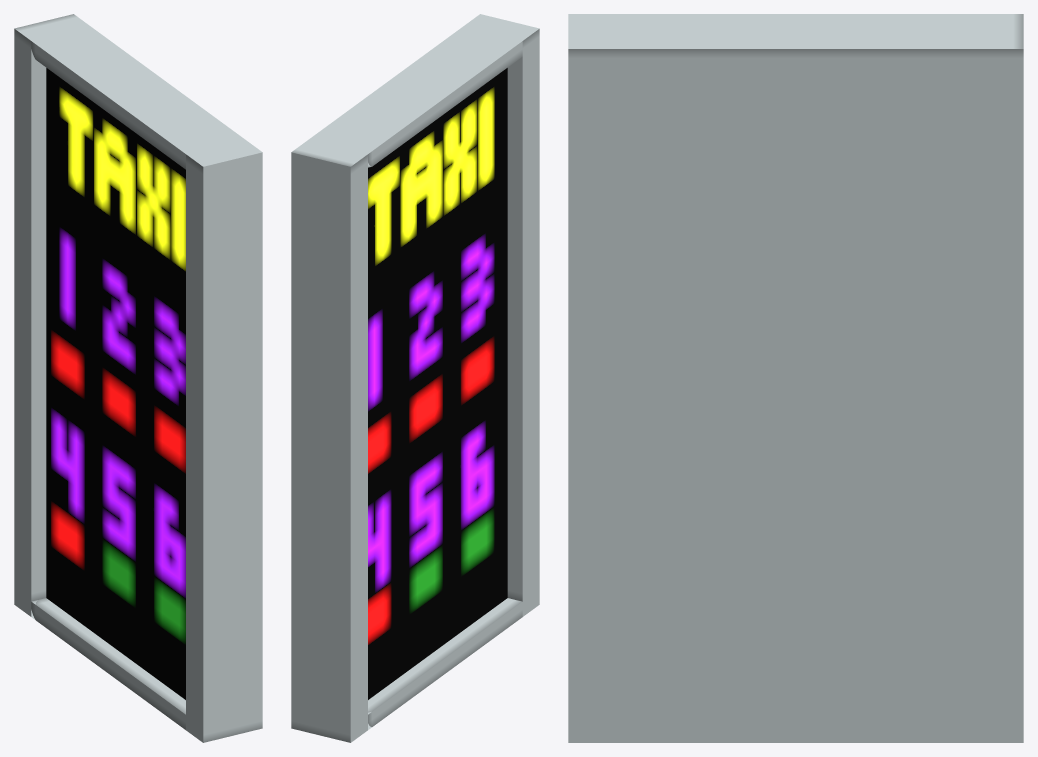
File: neon_taxi_status_taxi.dae
3 renders of one model, left to right at view 1: azimuth 30°, elevation 25°; view 2: azimuth 150°, elevation 25°; view 3: azimuth 270°, elevation 25°, orthographic. The views are drawn at different scales.
Parts seen in each view (by area): view 1: Content; view 2: Content; view 3: Content.
Part boxes in pixels (box(x1,y1,x2,y2)): Content: box(14, 14, 262, 742); Content: box(291, 14, 539, 742); Content: box(568, 14, 1023, 742).
Bounding box in the file's own units: 4 × 37 × 22.
Materials: 1 (1 with a texture image).
